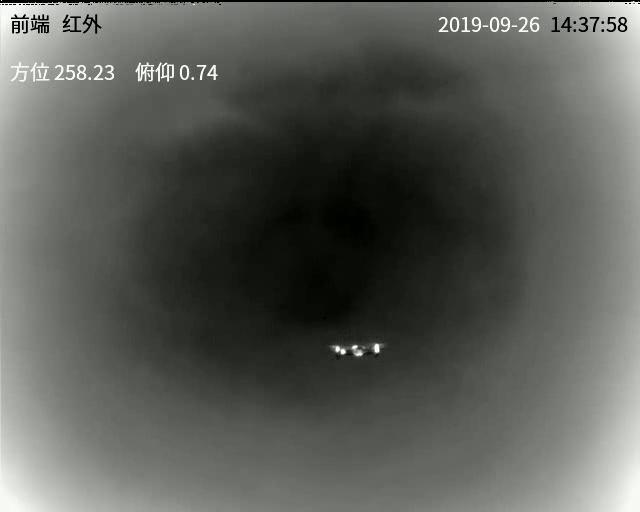DRONE: (326, 340, 386, 360)
